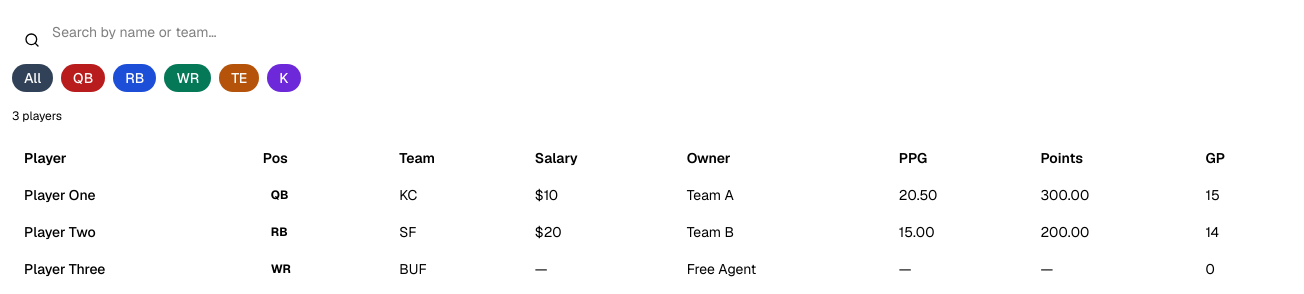
PlayerSearch › clears search when clear button is clicked
Step 1. Type "One" into the field → (652, 32), box [12,12,1292,52]
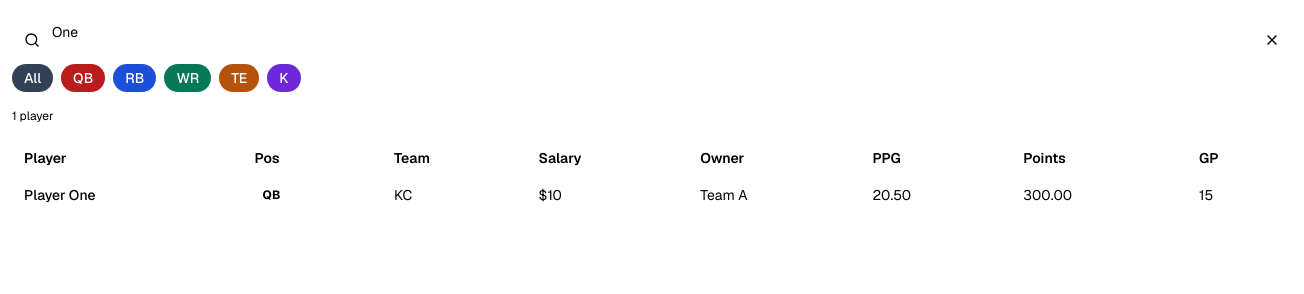
Expected: the link "Player Two" is gone
// Find and click clear button (using aria-label we plan to add)
Step 2. Click the button named "Clear search" → (1272, 40), box [1264,32,1280,48]
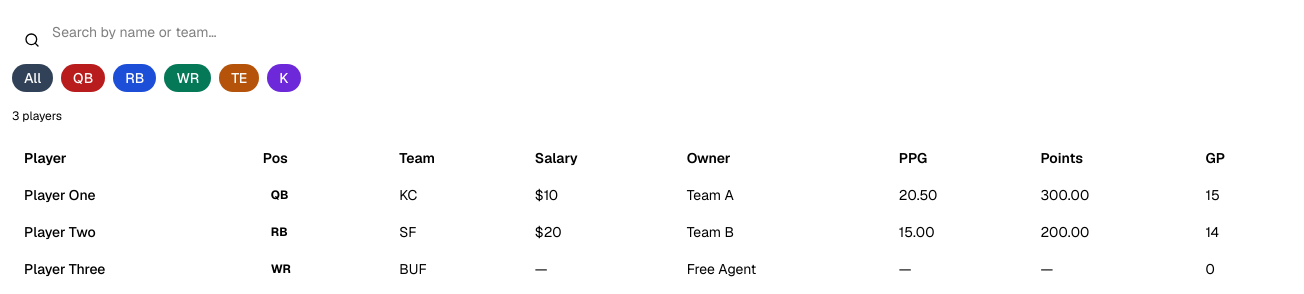
Expected: the field is empty, [12,12,1292,52]
Expected: the link "Player Two" is shown, [24,222,96,240]
